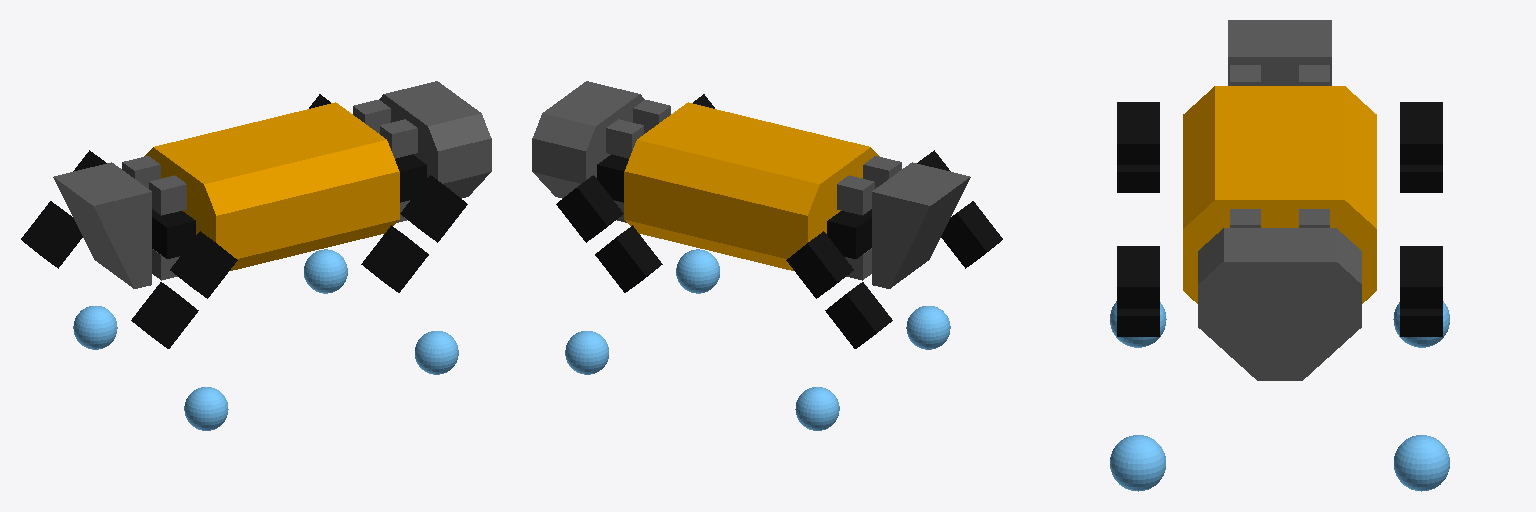
--- Facts derived from the render (not from the file) ---
Views: 3 orthographic renders of the robot side by side, from view 1: azimuth 30°, elevation 25°; view 2: azimuth 150°, elevation 25°; view 3: azimuth 270°, elevation 25°.
Model Arctic_Long with 18 links and 17 joints (12 revolute, 5 fixed), rooted at dummy, posed every joint at zero.
Links seen in each view (by area): view 1: root, foot_2, foot_7, foot_8, foot_1, foot_11, foot_3, foot_6, foot_12, foot_9; view 2: root, foot_5, foot_10, foot_11, foot_4, foot_8, foot_3, foot_6, foot_9, foot_12; view 3: root, foot_1, foot_10, foot_4, foot_7, foot_3, foot_6, foot_11, foot_2, foot_5, foot_8, foot_12 (+1 smaller).
Boxes of the visible links, x1=… form: root: x1=53, y1=81, x2=491, y2=288; foot_2: x1=361, y1=225, x2=428, y2=292; foot_7: x1=170, y1=231, x2=237, y2=298; foot_8: x1=131, y1=282, x2=198, y2=348; foot_1: x1=400, y1=175, x2=467, y2=242; foot_11: x1=21, y1=201, x2=82, y2=268; foot_3: x1=415, y1=331, x2=458, y2=374; foot_6: x1=304, y1=249, x2=347, y2=293; foot_12: x1=73, y1=306, x2=117, y2=349; foot_9: x1=184, y1=387, x2=228, y2=430; root: x1=532, y1=81, x2=970, y2=288; foot_5: x1=595, y1=225, x2=662, y2=292; foot_10: x1=786, y1=231, x2=853, y2=298; foot_11: x1=825, y1=282, x2=892, y2=348; foot_4: x1=556, y1=175, x2=623, y2=242; foot_8: x1=941, y1=201, x2=1002, y2=268; foot_3: x1=676, y1=249, x2=719, y2=293; foot_6: x1=565, y1=331, x2=608, y2=374; foot_9: x1=906, y1=306, x2=950, y2=349; foot_12: x1=795, y1=387, x2=839, y2=430; root: x1=1183, y1=20, x2=1376, y2=380; foot_1: x1=1117, y1=246, x2=1159, y2=308; foot_10: x1=1400, y1=102, x2=1442, y2=164; foot_4: x1=1400, y1=246, x2=1442, y2=308; foot_7: x1=1117, y1=102, x2=1159, y2=164; foot_3: x1=1110, y1=435, x2=1165, y2=491; foot_6: x1=1394, y1=435, x2=1449, y2=491; foot_11: x1=1400, y1=165, x2=1442, y2=192; foot_2: x1=1117, y1=309, x2=1159, y2=336; foot_5: x1=1400, y1=309, x2=1442, y2=336; foot_8: x1=1117, y1=165, x2=1159, y2=192; foot_12: x1=1393, y1=301, x2=1449, y2=347.
Bounding box of the posed robot: 0.4582 × 0.2734 × 0.2448 m (x, y, z).
Meshes: 3 distinct files referenced, 3 mesh visuals loaded (3 binary STL).

The robot description file, URDF, robot "Arctic_Long":
<?xml version="1.0"?>
<!-- created with Phobos 1.0.1 "Capricious Choutengan" -->
  <robot name="Arctic_Long">

    <link name="foot_-12">
      <inertial>
        <origin xyz="0 0 0" rpy="0 0 0"/>
        <mass value="0.15"/>
        <inertia ixx="0.001" ixy="0" ixz="0" iyy="0.001" iyz="0" izz="0.001"/>
      </inertial>
    </link>

    <link name="foot_-3">
      <inertial>
        <origin xyz="0 0 0" rpy="0 0 0"/>
        <mass value="0.15"/>
        <inertia ixx="0.001" ixy="0" ixz="0" iyy="0.001" iyz="0" izz="0.001"/>
      </inertial>
    </link>

    <link name="foot_-6">
      <inertial>
        <origin xyz="0 0 0" rpy="0 0 0"/>
        <mass value="0.15"/>
        <inertia ixx="0.001" ixy="0" ixz="0" iyy="0.001" iyz="0" izz="0.001"/>
      </inertial>
    </link>

    <link name="foot_-9">
      <inertial>
        <origin xyz="0 0 0" rpy="0 0 0"/>
        <mass value="0.15"/>
        <inertia ixx="0.001" ixy="0" ixz="0" iyy="0.001" iyz="0" izz="0.001"/>
      </inertial>
    </link>

    <link name="foot_1">
      <inertial>
        <origin xyz="0 0 0" rpy="0 0 0"/>
        <mass value="0.12"/>
        <inertia ixx="0.001" ixy="0" ixz="0" iyy="0.001" iyz="0" izz="0.001"/>
      </inertial>
      <visual name="-1">
        <origin xyz="0.00565 -0.06482 -0.00494" rpy="0 -0.7854 0"/>
        <geometry>
          <box size="0.0356 0.03427 0.0506"/>
        </geometry>
        <material name="black"/>
      </visual>
      <collision name="-1">
        <origin xyz="0.00565 -0.06482 -0.00494" rpy="0 -0.7854 0"/>
        <geometry>
          <box size="0.0356 0.03427 0.0506"/>
        </geometry>
      </collision>
    </link>

    <link name="foot_10">
      <inertial>
        <origin xyz="0 0 0" rpy="0 0 0"/>
        <mass value="0.12"/>
        <inertia ixx="0.001" ixy="0" ixz="0" iyy="0.001" iyz="0" izz="0.001"/>
      </inertial>
      <visual name="-10">
        <origin xyz="0.00573 -0.06515 0.00452" rpy="-3.14159 0.7854 0"/>
        <geometry>
          <box size="0.0356 0.03427 0.0506"/>
        </geometry>
        <material name="black"/>
      </visual>
      <collision name="-10">
        <origin xyz="0.00573 -0.06515 0.00452" rpy="-3.14159 0.7854 0"/>
        <geometry>
          <box size="0.0356 0.03427 0.0506"/>
        </geometry>
      </collision>
    </link>

    <link name="foot_11">
      <inertial>
        <origin xyz="0 0 0" rpy="0 0 0"/>
        <mass value="0.12"/>
        <inertia ixx="0.001" ixy="0" ixz="0" iyy="0.001" iyz="0" izz="0.001"/>
      </inertial>
      <visual name="-11">
        <origin xyz="0.03612 -0.03692 0" rpy="1.5708 0 -2.35619"/>
        <geometry>
          <box size="0.0356 0.03427 0.0506"/>
        </geometry>
        <material name="black"/>
      </visual>
      <collision name="-11">
        <origin xyz="0.03612 -0.03692 0" rpy="1.5708 0 -2.35619"/>
        <geometry>
          <box size="0.0356 0.03427 0.0506"/>
        </geometry>
      </collision>
    </link>

    <link name="foot_12">
      <inertial>
        <origin xyz="0 0 0" rpy="0 0 0"/>
        <mass value="0.12"/>
        <inertia ixx="0.001" ixy="0" ixz="0" iyy="0.001" iyz="0" izz="0.001"/>
      </inertial>
      <visual name="-12">
        <origin xyz="-0.05885 -0.10733 0.00052" rpy="1.5708 0 3.14159"/>
        <geometry>
          <sphere radius="0.02278"/>
        </geometry>
        <material name="blue"/>
      </visual>
      <collision name="-12">
        <origin xyz="-0.05885 -0.10733 0.00052" rpy="1.5708 0 3.14159"/>
        <geometry>
          <sphere radius="0.02278"/>
        </geometry>
      </collision>
    </link>

    <link name="foot_2">
      <inertial>
        <origin xyz="0 0 0" rpy="0 0 0"/>
        <mass value="0.12"/>
        <inertia ixx="0.001" ixy="0" ixz="0" iyy="0.001" iyz="0" izz="0.001"/>
      </inertial>
      <visual name="-2">
        <origin xyz="-0.03654 -0.03692 0" rpy="-1.5708 0 -0.7854"/>
        <geometry>
          <box size="0.0356 0.03427 0.0506"/>
        </geometry>
        <material name="black"/>
      </visual>
      <collision name="-2">
        <origin xyz="-0.03654 -0.03692 0" rpy="-1.5708 0 -0.7854"/>
        <geometry>
          <box size="0.0356 0.03427 0.0506"/>
        </geometry>
      </collision>
    </link>

    <link name="foot_3">
      <inertial>
        <origin xyz="0 0 0" rpy="0 0 0"/>
        <mass value="0.12"/>
        <inertia ixx="0.001" ixy="0" ixz="0" iyy="0.001" iyz="0" izz="0.001"/>
      </inertial>
      <visual name="-3">
        <origin xyz="0.05843 -0.10733 0.00052" rpy="-1.5708 0 0"/>
        <geometry>
          <sphere radius="0.02278"/>
        </geometry>
        <material name="blue"/>
      </visual>
      <collision name="-3">
        <origin xyz="0.05843 -0.10733 0.00052" rpy="-1.5708 0 0"/>
        <geometry>
          <sphere radius="0.02278"/>
        </geometry>
      </collision>
    </link>

    <link name="foot_4">
      <inertial>
        <origin xyz="0 0 0" rpy="0 0 0"/>
        <mass value="0.12"/>
        <inertia ixx="0.001" ixy="0" ixz="0" iyy="0.001" iyz="0" izz="0.001"/>
      </inertial>
      <visual name="-4">
        <origin xyz="0.06482 -0.00565 -0.00494" rpy="0 -0.7854 -1.5708"/>
        <geometry>
          <box size="0.0356 0.03427 0.0506"/>
        </geometry>
        <material name="black"/>
      </visual>
      <collision name="-4">
        <origin xyz="0.06482 -0.00565 -0.00494" rpy="0 -0.7854 -1.5708"/>
        <geometry>
          <box size="0.0356 0.03427 0.0506"/>
        </geometry>
      </collision>
    </link>

    <link name="foot_5">
      <inertial>
        <origin xyz="0 0 0" rpy="0 0 0"/>
        <mass value="0.12"/>
        <inertia ixx="0.001" ixy="0" ixz="0" iyy="0.001" iyz="0" izz="0.001"/>
      </inertial>
      <visual name="-5">
        <origin xyz="0.03654 -0.03692 0" rpy="1.5708 0 -2.35619"/>
        <geometry>
          <box size="0.0356 0.03427 0.0506"/>
        </geometry>
        <material name="black"/>
      </visual>
      <collision name="-5">
        <origin xyz="0.03654 -0.03692 0" rpy="1.5708 0 -2.35619"/>
        <geometry>
          <box size="0.0356 0.03427 0.0506"/>
        </geometry>
      </collision>
    </link>

    <link name="foot_6">
      <inertial>
        <origin xyz="0 0 0" rpy="0 0 0"/>
        <mass value="0.12"/>
        <inertia ixx="0.001" ixy="0" ixz="0" iyy="0.001" iyz="0" izz="0.001"/>
      </inertial>
      <visual name="-6">
        <origin xyz="-0.05843 -0.10733 0.00052" rpy="1.5708 0 3.14159"/>
        <geometry>
          <sphere radius="0.02278"/>
        </geometry>
        <material name="blue"/>
      </visual>
      <collision name="-6">
        <origin xyz="-0.05843 -0.10733 0.00052" rpy="1.5708 0 3.14159"/>
        <geometry>
          <sphere radius="0.02278"/>
        </geometry>
      </collision>
    </link>

    <link name="foot_7">
      <inertial>
        <origin xyz="0 0 0" rpy="0 0 0"/>
        <mass value="0.12"/>
        <inertia ixx="0.001" ixy="0" ixz="0" iyy="0.001" iyz="0" izz="0.001"/>
      </inertial>
      <visual name="-7">
        <origin xyz="-0.00573 -0.06515 0.00452" rpy="0 2.35619 0"/>
        <geometry>
          <box size="0.0356 0.03427 0.0506"/>
        </geometry>
        <material name="black"/>
      </visual>
      <collision name="-7">
        <origin xyz="-0.00573 -0.06515 0.00452" rpy="0 2.35619 0"/>
        <geometry>
          <box size="0.0356 0.03427 0.0506"/>
        </geometry>
      </collision>
    </link>

    <link name="foot_8">
      <inertial>
        <origin xyz="0 0 0" rpy="0 0 0"/>
        <mass value="0.12"/>
        <inertia ixx="0.001" ixy="0" ixz="0" iyy="0.001" iyz="0" izz="0.001"/>
      </inertial>
      <visual name="-8">
        <origin xyz="-0.03612 -0.03692 0" rpy="-1.5708 0 -0.7854"/>
        <geometry>
          <box size="0.0356 0.03427 0.0506"/>
        </geometry>
        <material name="black"/>
      </visual>
      <collision name="-8">
        <origin xyz="-0.03612 -0.03692 0" rpy="-1.5708 0 -0.7854"/>
        <geometry>
          <box size="0.0356 0.03427 0.0506"/>
        </geometry>
      </collision>
    </link>

    <link name="foot_9">
      <inertial>
        <origin xyz="0 0 0" rpy="0 0 0"/>
        <mass value="0.12"/>
        <inertia ixx="0.001" ixy="0" ixz="0" iyy="0.001" iyz="0" izz="0.001"/>
      </inertial>
      <visual name="-9">
        <origin xyz="0.05885 -0.10733 0.00052" rpy="-1.5708 0 0"/>
        <geometry>
          <sphere radius="0.02278"/>
        </geometry>
        <material name="blue"/>
      </visual>
      <collision name="-9">
        <origin xyz="0.05885 -0.10733 0.00052" rpy="-1.5708 0 0"/>
        <geometry>
          <sphere radius="0.02278"/>
        </geometry>
      </collision>
    </link>

    <link name="root">
      <inertial>
        <origin xyz="0 0 0" rpy="0 0 0"/>
        <mass value="1.0"/>
        <inertia ixx="0.001" ixy="0" ixz="0" iyy="0.001" iyz="0" izz="0.001"/>
      </inertial>
      <visual name="Cube.001">
        <origin xyz="-0.13658 0.02757 0.03673" rpy="0 0 0"/>
        <geometry>
          <box size="0.03085 0.025 0.02849"/>
        </geometry>
        <material name="gray"/>
      </visual>
      <visual name="Cube.002">
        <origin xyz="0.13402 -0.03507 -8e-05" rpy="0 0 0"/>
        <geometry>
          <box size="0.03427 0.0506 0.0356"/>
        </geometry>
        <material name="black"/>
      </visual>
      <visual name="Cube.003">
        <origin xyz="-0.13948 -0.03473 0" rpy="0 0 0"/>
        <geometry>
          <box size="0.03427 0.0506 0.0356"/>
        </geometry>
        <material name="black"/>
      </visual>
      <visual name="Cube.005">
        <origin xyz="-0.13658 -0.02757 0.03673" rpy="0 0 0"/>
        <geometry>
          <box size="0.03085 0.025 0.02849"/>
        </geometry>
        <material name="gray"/>
      </visual>
      <visual name="Cube.007">
        <origin xyz="-0.13906 0.03507 -8e-05" rpy="0 0 0"/>
        <geometry>
          <box size="0.03427 0.0506 0.0356"/>
        </geometry>
        <material name="black"/>
      </visual>
      <visual name="Cube.008">
        <origin xyz="-0.13658 -0.02757 -0.03673" rpy="0 0 0"/>
        <geometry>
          <box size="0.03085 0.025 0.02849"/>
        </geometry>
        <material name="gray"/>
      </visual>
      <visual name="Cube.009">
        <origin xyz="-0.13658 0.02757 -0.03673" rpy="0 0 0"/>
        <geometry>
          <box size="0.03085 0.025 0.02849"/>
        </geometry>
        <material name="gray"/>
      </visual>
      <visual name="Cube.010">
        <origin xyz="0.13658 0.02757 0.03673" rpy="0 0 0"/>
        <geometry>
          <box size="0.03085 0.025 0.02849"/>
        </geometry>
        <material name="gray"/>
      </visual>
      <visual name="Cube.011">
        <origin xyz="0.13658 0.02757 -0.03673" rpy="0 0 0"/>
        <geometry>
          <box size="0.03085 0.025 0.02849"/>
        </geometry>
        <material name="gray"/>
      </visual>
      <visual name="Cube.012">
        <origin xyz="0.13658 -0.02757 0.03673" rpy="0 0 0"/>
        <geometry>
          <box size="0.03085 0.025 0.02849"/>
        </geometry>
        <material name="gray"/>
      </visual>
      <visual name="Cube.013">
        <origin xyz="0.13658 -0.02757 -0.03673" rpy="0 0 0"/>
        <geometry>
          <box size="0.03085 0.025 0.02849"/>
        </geometry>
        <material name="gray"/>
      </visual>
      <visual name="Cube.019">
        <origin xyz="0.13402 0.03507 -8e-05" rpy="0 0 0"/>
        <geometry>
          <box size="0.03427 0.0506 0.0356"/>
        </geometry>
        <material name="black"/>
      </visual>
      <visual name="back">
        <origin xyz="-0.18622 0 0" rpy="0 0 0"/>
        <geometry>
          <mesh filename="package://arc_description/meshes/Long/stl/Cube.208.stl" scale="1.0 1.0 1.0"/>
        </geometry>
        <material name="gray"/>
      </visual>
      <visual name="body">
        <origin xyz="0 0 0" rpy="0 0 0"/>
        <geometry>
          <mesh filename="package://arc_description/meshes/Long/stl/Cube.209.stl" scale="1.0 1.0 1.0"/>
        </geometry>
      </visual>
      <visual name="front">
        <origin xyz="0.1929 0 0.00678" rpy="0 0 0"/>
        <geometry>
          <mesh filename="package://arc_description/meshes/Long/stl/Cube.207.stl" scale="1.0 1.0 1.0"/>
        </geometry>
        <material name="gray"/>
      </visual>
      <collision name="Cube.001">
        <origin xyz="-0.13658 0.02757 0.03673" rpy="0 0 0"/>
        <geometry>
          <box size="0.03085 0.025 0.02849"/>
        </geometry>
      </collision>
      <collision name="Cube.002">
        <origin xyz="0.13402 -0.03507 -8e-05" rpy="0 0 0"/>
        <geometry>
          <box size="0.03427 0.0506 0.0356"/>
        </geometry>
      </collision>
      <collision name="Cube.003">
        <origin xyz="-0.13948 -0.03473 0" rpy="0 0 0"/>
        <geometry>
          <box size="0.03427 0.0506 0.0356"/>
        </geometry>
      </collision>
      <collision name="Cube.005">
        <origin xyz="-0.13658 -0.02757 0.03673" rpy="0 0 0"/>
        <geometry>
          <box size="0.03085 0.025 0.02849"/>
        </geometry>
      </collision>
      <collision name="Cube.007">
        <origin xyz="-0.13906 0.03507 -8e-05" rpy="0 0 0"/>
        <geometry>
          <box size="0.03427 0.0506 0.0356"/>
        </geometry>
      </collision>
      <collision name="Cube.008">
        <origin xyz="-0.13658 -0.02757 -0.03673" rpy="0 0 0"/>
        <geometry>
          <box size="0.03085 0.025 0.02849"/>
        </geometry>
      </collision>
      <collision name="Cube.009">
        <origin xyz="-0.13658 0.02757 -0.03673" rpy="0 0 0"/>
        <geometry>
          <box size="0.03085 0.025 0.02849"/>
        </geometry>
      </collision>
      <collision name="Cube.010">
        <origin xyz="0.13658 0.02757 0.03673" rpy="0 0 0"/>
        <geometry>
          <box size="0.03085 0.025 0.02849"/>
        </geometry>
      </collision>
      <collision name="Cube.011">
        <origin xyz="0.13658 0.02757 -0.03673" rpy="0 0 0"/>
        <geometry>
          <box size="0.03085 0.025 0.02849"/>
        </geometry>
      </collision>
      <collision name="Cube.012">
        <origin xyz="0.13658 -0.02757 0.03673" rpy="0 0 0"/>
        <geometry>
          <box size="0.03085 0.025 0.02849"/>
        </geometry>
      </collision>
      <collision name="Cube.013">
        <origin xyz="0.13658 -0.02757 -0.03673" rpy="0 0 0"/>
        <geometry>
          <box size="0.03085 0.025 0.02849"/>
        </geometry>
      </collision>
      <collision name="Cube.019">
        <origin xyz="0.13402 0.03507 -8e-05" rpy="0 0 0"/>
        <geometry>
          <box size="0.03427 0.0506 0.0356"/>
        </geometry>
      </collision>
      <collision name="back">
        <origin xyz="-0.18622 0 0" rpy="0 0 0"/>
        <geometry>
          <mesh filename="package://arc_description/meshes/Long/stl/Cube.012.stl" scale="1.0 1.0 1.0"/>
        </geometry>
      </collision>
      <collision name="body">
        <origin xyz="0 0 0" rpy="0 0 0"/>
        <geometry>
          <mesh filename="package://arc_description/meshes/Long/stl/Cube.013.stl" scale="1.0 1.0 1.0"/>
        </geometry>
      </collision>
      <collision name="front">
        <origin xyz="0.1929 0 0.00678" rpy="0 0 0"/>
        <geometry>
          <mesh filename="package://arc_description/meshes/Long/stl/Cube.011.stl" scale="1.0 1.0 1.0"/>
        </geometry>
      </collision>
    </link>

    <joint name="foot_-12_" type="fixed">
      <origin xyz="-0.05843 -0.10733 0.00052" rpy="0 0 0"/>
      <parent link="foot_12"/>
      <child link="foot_-12"/>
    </joint>

    <joint name="foot_-3_" type="fixed">
      <origin xyz="0.05843 -0.10733 0.00052" rpy="0 0 0"/>
      <parent link="foot_3"/>
      <child link="foot_-3"/>
    </joint>

    <joint name="foot_-6_" type="fixed">
      <origin xyz="-0.05843 -0.10733 0.00052" rpy="0 0 0"/>
      <parent link="foot_6"/>
      <child link="foot_-6"/>
    </joint>

    <joint name="foot_-9_" type="fixed">
      <origin xyz="0.05843 -0.10733 0.00052" rpy="0 0 0"/>
      <parent link="foot_9"/>
      <child link="foot_-9"/>
    </joint>

    <joint name="foot_1_" type="revolute">
      <origin xyz="0.13402 -0.0486 -8e-05" rpy="0 1.5708 0"/>
      <parent link="root"/>
      <child link="foot_1"/>
      <axis xyz="0 0 1.0"/>
      <limit lower="-1.57" upper="1.57" effort="3.0" velocity="55.0"/>
    </joint>

    <joint name="foot_10_" type="revolute">
      <origin xyz="-0.13948 0.04826 0" rpy="3.14159 1.5708 0"/>
      <parent link="root"/>
      <child link="foot_10"/>
      <axis xyz="0 0 1.0"/>
      <limit lower="-1.57" upper="1.57" effort="3.0" velocity="55.0"/>
    </joint>

    <joint name="foot_11_" type="revolute">
      <origin xyz="0.01529 -0.06515 0.01451" rpy="1.5708 -1.5708 0"/>
      <parent link="foot_10"/>
      <child link="foot_11"/>
      <axis xyz="0 0 1.0"/>
      <limit lower="-1.57" upper="1.57" effort="3.0" velocity="55.0"/>
    </joint>

    <joint name="foot_12_" type="revolute">
      <origin xyz="0.0461 -0.04649 0" rpy="0 0 0"/>
      <parent link="foot_11"/>
      <child link="foot_12"/>
      <axis xyz="0 0 1.0"/>
      <limit lower="-1.57" upper="1.57" effort="3.0" velocity="55.0"/>
    </joint>

    <joint name="foot_2_" type="revolute">
      <origin xyz="0.01522 -0.06482 -0.01451" rpy="1.5708 -1.5708 0"/>
      <parent link="foot_1"/>
      <child link="foot_2"/>
      <axis xyz="0 0 1.0"/>
      <limit lower="-1.57" upper="1.57" effort="3.0" velocity="55.0"/>
    </joint>

    <joint name="foot_3_" type="revolute">
      <origin xyz="-0.0461 -0.04649 0" rpy="0 0 0"/>
      <parent link="foot_2"/>
      <child link="foot_3"/>
      <axis xyz="0 0 1.0"/>
      <limit lower="-1.57" upper="1.57" effort="3.0" velocity="55.0"/>
    </joint>

    <joint name="foot_4_" type="revolute">
      <origin xyz="0.13402 0.0486 -8e-05" rpy="1.5708 0 1.5708"/>
      <parent link="root"/>
      <child link="foot_4"/>
      <axis xyz="0 0 1.0"/>
      <limit lower="-1.57" upper="1.57" effort="3.0" velocity="55.0"/>
    </joint>

    <joint name="foot_5_" type="revolute">
      <origin xyz="0.06482 -0.01522 -0.01451" rpy="0 1.5708 0"/>
      <parent link="foot_4"/>
      <child link="foot_5"/>
      <axis xyz="0 0 1.0"/>
      <limit lower="-1.57" upper="1.57" effort="3.0" velocity="55.0"/>
    </joint>

    <joint name="foot_6_" type="revolute">
      <origin xyz="0.0461 -0.04649 0" rpy="0 0 0"/>
      <parent link="foot_5"/>
      <child link="foot_6"/>
      <axis xyz="0 0 1.0"/>
      <limit lower="-1.57" upper="1.57" effort="3.0" velocity="55.0"/>
    </joint>

    <joint name="foot_7_" type="revolute">
      <origin xyz="-0.13948 -0.04826 0" rpy="0 -1.5708 0"/>
      <parent link="root"/>
      <child link="foot_7"/>
      <axis xyz="0 0 1.0"/>
      <limit lower="-1.57" upper="1.57" effort="3.0" velocity="55.0"/>
    </joint>

    <joint name="foot_8_" type="revolute">
      <origin xyz="-0.01529 -0.06515 0.01451" rpy="1.5708 1.5708 0"/>
      <parent link="foot_7"/>
      <child link="foot_8"/>
      <axis xyz="0 0 1.0"/>
      <limit lower="-1.57" upper="1.57" effort="3.0" velocity="55.0"/>
    </joint>

    <joint name="foot_9_" type="revolute">
      <origin xyz="-0.0461 -0.04649 0" rpy="0 0 0"/>
      <parent link="foot_8"/>
      <child link="foot_9"/>
      <axis xyz="0 0 1.0"/>
      <limit lower="-1.57" upper="1.57" effort="3.0" velocity="55.0"/>
    </joint>

     <material name="black">
      <color rgba="0.1 0.1 0.1 1.0"/>
    </material>

    <material name="gray">
      <color rgba="0.4 0.4 0.4 1.0"/>
    </material>

    <material name="blue">
      <color rgba="0.5 0.8 1 1.0"/>
    </material>

    <link name="dummy"></link>

    <joint name="dummy_joint" type="fixed">
        <parent link="dummy"/>
        <child link="root"/>
        <origin xyz="0 0 0" rpy="0 0 0"/>
    </joint>

    <!-- ROS control plugin -->
    <gazebo>
      <plugin name="gazebo_ros_control" filename="libgazebo_ros_control.so">
        <robotNamespace>/Arctic</robotNamespace>  
      </plugin>
    </gazebo>

    <!-- IMU sensor -->
    <gazebo reference="root">
      <gravity>true</gravity>
      <sensor name="imu_sensor" type="imu">
        <always_on>true</always_on>
        <update_rate>100</update_rate>
        <visualize>true</visualize>
        <topic>__default_topic__</topic>
        <plugin filename="libgazebo_ros_imu_sensor.so" name="imu_plugin">
          <topicName>arctic_imu/base_link_orientation</topicName>
          <bodyName>imu_link</bodyName>
          <updateRateHZ>15.0</updateRateHZ>
          <gaussianNoise>0.0</gaussianNoise>
          <xyzOffset>0 0 0</xyzOffset>
          <rpyOffset>0 0 0</rpyOffset>
          <frameName>root</frameName>
          <initialOrientationAsReference>false</initialOrientationAsReference>
        </plugin>
        <pose>0 0 0 0 0 0</pose>
      </sensor>
    </gazebo>

    <!-- Joint state publisher plugin -->
    <gazebo>
      <plugin name="joint_state_publisher" filename="libgazebo_ros_joint_state_publisher.so">
          <robotNamespace>/Arctic</robotNamespace>
          <jointName>foot_1_, foot_2_, foot_3_, foot_4_, foot_5_,
                    foot_6_, foot_7_, foot_8_, foot_9_, foot_10_,
                    foot_11_, foot_12_</jointName>
          <updateRate>100</updateRate>
      </plugin>
    </gazebo>

    <!-- Transmission -->
    <transmission name="tran1">
      <type>transmission_interface/SimpleTransmission</type>
      <joint name="foot_1_">
        <hardwareInterface>hardware_interface/EffortJointInterface</hardwareInterface>
      </joint>
      <actuator name="motor1">
      <hardwareInterface>hardware_interface/EffortJointInterface</hardwareInterface>
      <mechanicalReduction>5</mechanicalReduction>
      </actuator>
    </transmission>

    <transmission name="tran2">
      <type>transmission_interface/SimpleTransmission</type>
      <joint name="foot_2_">
        <hardwareInterface>hardware_interface/EffortJointInterface</hardwareInterface>
      </joint>
      <actuator name="motor2">
      <hardwareInterface>hardware_interface/EffortJointInterface</hardwareInterface>
      <mechanicalReduction>5</mechanicalReduction>
      </actuator>
    </transmission>

    <transmission name="tran3">
      <type>transmission_interface/SimpleTransmission</type>
      <joint name="foot_3_">
        <hardwareInterface>hardware_interface/EffortJointInterface</hardwareInterface>
      </joint>
      <actuator name="motor3">
      <hardwareInterface>hardware_interface/EffortJointInterface</hardwareInterface>
      <mechanicalReduction>5</mechanicalReduction>
      </actuator>
    </transmission>

    <transmission name="tran4">
      <type>transmission_interface/SimpleTransmission</type>
      <joint name="foot_4_">
        <hardwareInterface>hardware_interface/EffortJointInterface</hardwareInterface>
      </joint>
      <actuator name="motor4">
      <hardwareInterface>hardware_interface/EffortJointInterface</hardwareInterface>
      <mechanicalReduction>5</mechanicalReduction>
      </actuator>
    </transmission>

    <transmission name="tran5">
      <type>transmission_interface/SimpleTransmission</type>
      <joint name="foot_5_">
        <hardwareInterface>hardware_interface/EffortJointInterface</hardwareInterface>
      </joint>
      <actuator name="motor5">
      <hardwareInterface>hardware_interface/EffortJointInterface</hardwareInterface>
      <mechanicalReduction>5</mechanicalReduction>
      </actuator>
    </transmission>

    <transmission name="tran6">
      <type>transmission_interface/SimpleTransmission</type>
      <joint name="foot_6_">
        <hardwareInterface>hardware_interface/EffortJointInterface</hardwareInterface>
      </joint>
      <actuator name="motor6">
      <hardwareInterface>hardware_interface/EffortJointInterface</hardwareInterface>
      <mechanicalReduction>5</mechanicalReduction>
      </actuator>
    </transmission>

    <transmission name="tran7">
      <type>transmission_interface/SimpleTransmission</type>
      <joint name="foot_7_">
        <hardwareInterface>hardware_interface/EffortJointInterface</hardwareInterface>
      </joint>
      <actuator name="motor7">
      <hardwareInterface>hardware_interface/EffortJointInterface</hardwareInterface>
      <mechanicalReduction>5</mechanicalReduction>
      </actuator>
    </transmission>

    <transmission name="tran8">
      <type>transmission_interface/SimpleTransmission</type>
      <joint name="foot_8_">
        <hardwareInterface>hardware_interface/EffortJointInterface</hardwareInterface>
      </joint>
      <actuator name="motor8">
      <hardwareInterface>hardware_interface/EffortJointInterface</hardwareInterface>
      <mechanicalReduction>5</mechanicalReduction>
      </actuator>
    </transmission>

    <transmission name="tran9">
      <type>transmission_interface/SimpleTransmission</type>
      <joint name="foot_9_">
        <hardwareInterface>hardware_interface/EffortJointInterface</hardwareInterface>
      </joint>
      <actuator name="motor9">
      <hardwareInterface>hardware_interface/EffortJointInterface</hardwareInterface>
      <mechanicalReduction>5</mechanicalReduction>
      </actuator>
    </transmission>

    <transmission name="tran10">
      <type>transmission_interface/SimpleTransmission</type>
      <joint name="foot_10_">
        <hardwareInterface>hardware_interface/EffortJointInterface</hardwareInterface>
      </joint>
      <actuator name="motor10">
      <hardwareInterface>hardware_interface/EffortJointInterface</hardwareInterface>
      <mechanicalReduction>5</mechanicalReduction>
      </actuator>
    </transmission>

    <transmission name="tran11">
      <type>transmission_interface/SimpleTransmission</type>
      <joint name="foot_11_">
        <hardwareInterface>hardware_interface/EffortJointInterface</hardwareInterface>
      </joint>
      <actuator name="motor11">
      <hardwareInterface>hardware_interface/EffortJointInterface</hardwareInterface>
      <mechanicalReduction>5</mechanicalReduction>
      </actuator>
    </transmission>

    <transmission name="tran12">
      <type>transmission_interface/SimpleTransmission</type>
      <joint name="foot_12_">
        <hardwareInterface>hardware_interface/EffortJointInterface</hardwareInterface>
      </joint>
      <actuator name="motor12">
      <hardwareInterface>hardware_interface/EffortJointInterface</hardwareInterface>
      <mechanicalReduction>5</mechanicalReduction>
      </actuator>
    </transmission>

    <!-- FR4 friction -->
    <gazebo reference="foot_-3">
      <mu1>200.0</mu1>
      <mu2>100.0</mu2>
      <minDepth>0.0002</minDepth>
      <kp  value="1000000.0"/>
      <kd  value="100.0"/>
    </gazebo>

    <!-- FL4 friction -->
    <gazebo reference="foot_-6">
      <mu1>200.0</mu1>
      <mu2>100.0</mu2>
      <minDepth>0.0002</minDepth>
      <kp  value="1000000.0"/>
      <kd  value="100.0"/>
    </gazebo>

    <!-- RR4 friction -->
    <gazebo reference="foot_-9">
      <mu1>200.0</mu1>
      <mu2>100.0</mu2>
      <minDepth>0.0002</minDepth>
      <kp  value="1000000.0"/>
      <kd  value="100.0"/>
    </gazebo>

    <!-- RL4 friction -->
    <gazebo reference="foot_-12">
      <mu1>200.0</mu1>
      <mu2>100.0</mu2>
      <minDepth>0.0002</minDepth>
      <kp  value="1000000.0"/>
      <kd  value="100.0"/>
    </gazebo>

  </robot>
